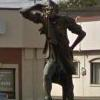Statue: (16, 0, 100, 100)
